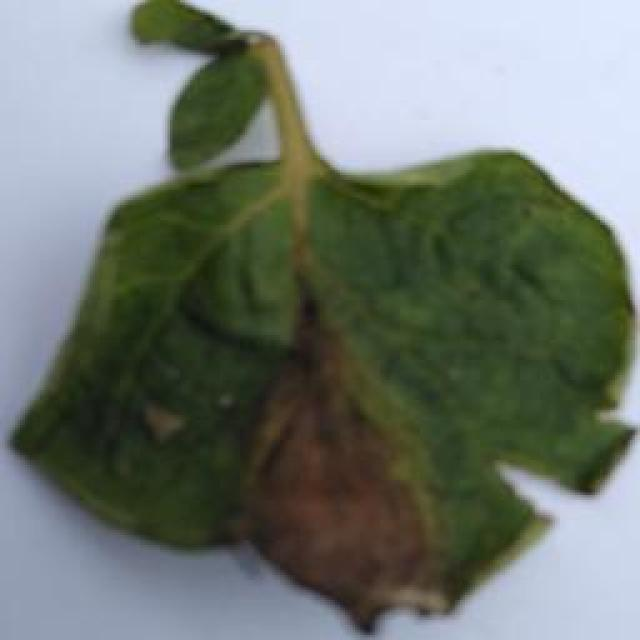Potato_Late_Blight: (9, 6, 628, 635)
